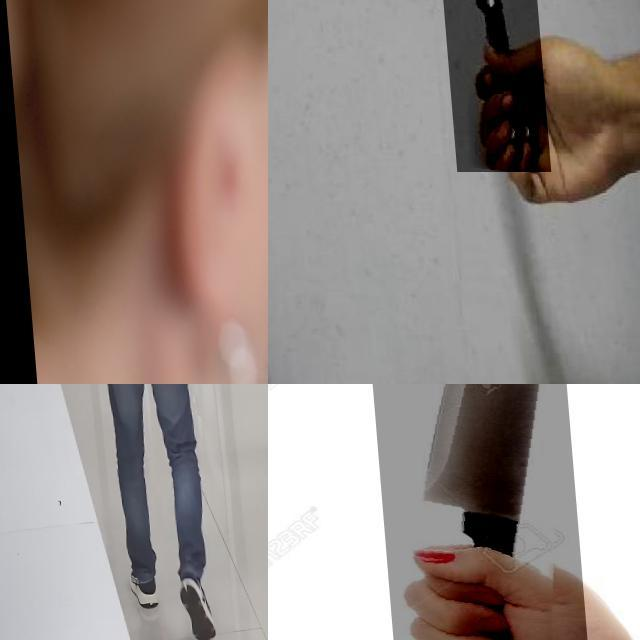-: (353, 384, 582, 640), (428, 0, 544, 173)
gun-knife-thesis - v11 Yolov5 augmented: (153, 384, 195, 430)
